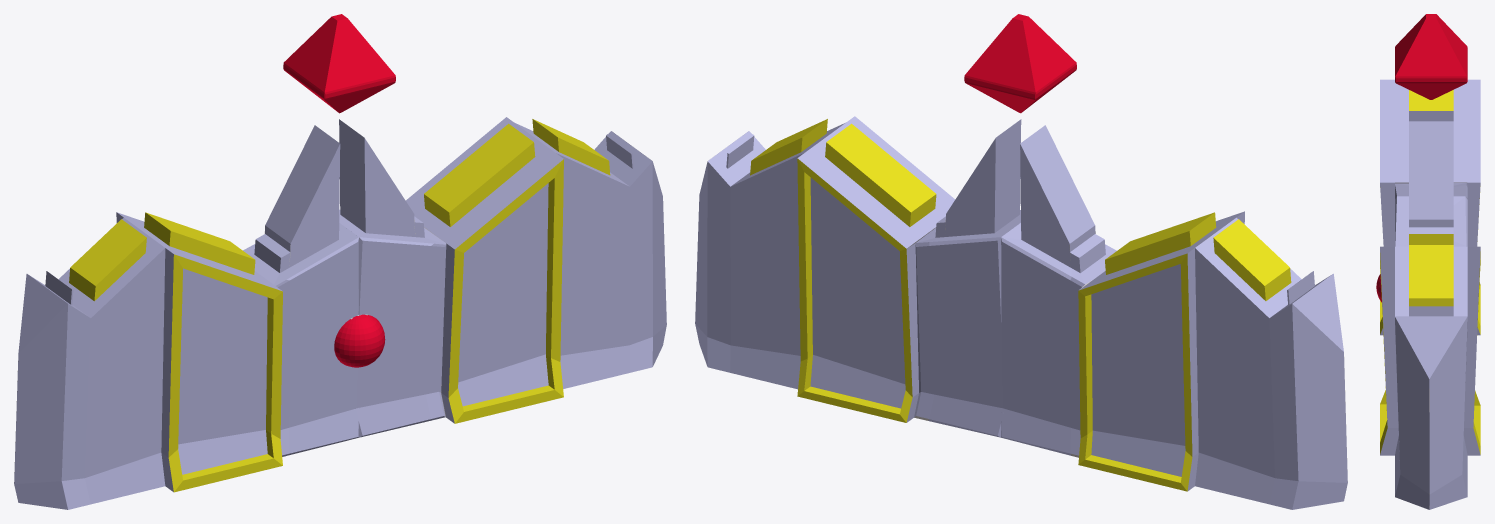
File: apalah.fbx
3 renders of one model, left to right at view 1: azimuth 30°, elevation 25°; view 2: azimuth 150°, elevation 25°; view 3: azimuth 270°, elevation 25°, orthographic. The views are drawn at different scales.
Parts seen in each view (by area): view 1: Cube; view 2: Cube; view 3: Cube.
Part boxes in pixels (left/top/right/bottom): Cube: left=14, top=14, right=666, bottom=509; Cube: left=695, top=14, right=1347, bottom=509; Cube: left=1376, top=14, right=1480, bottom=509.
Size of the model in its own units: 1815 by 1079 by 287.
